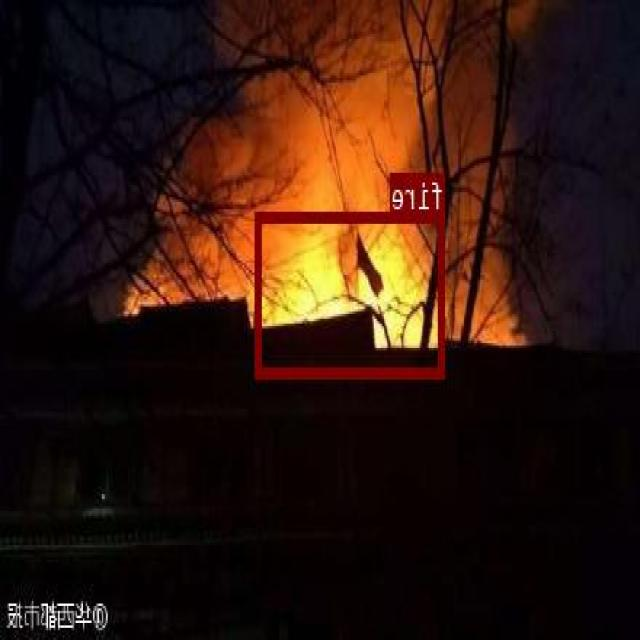fire: (256, 210, 446, 375)
